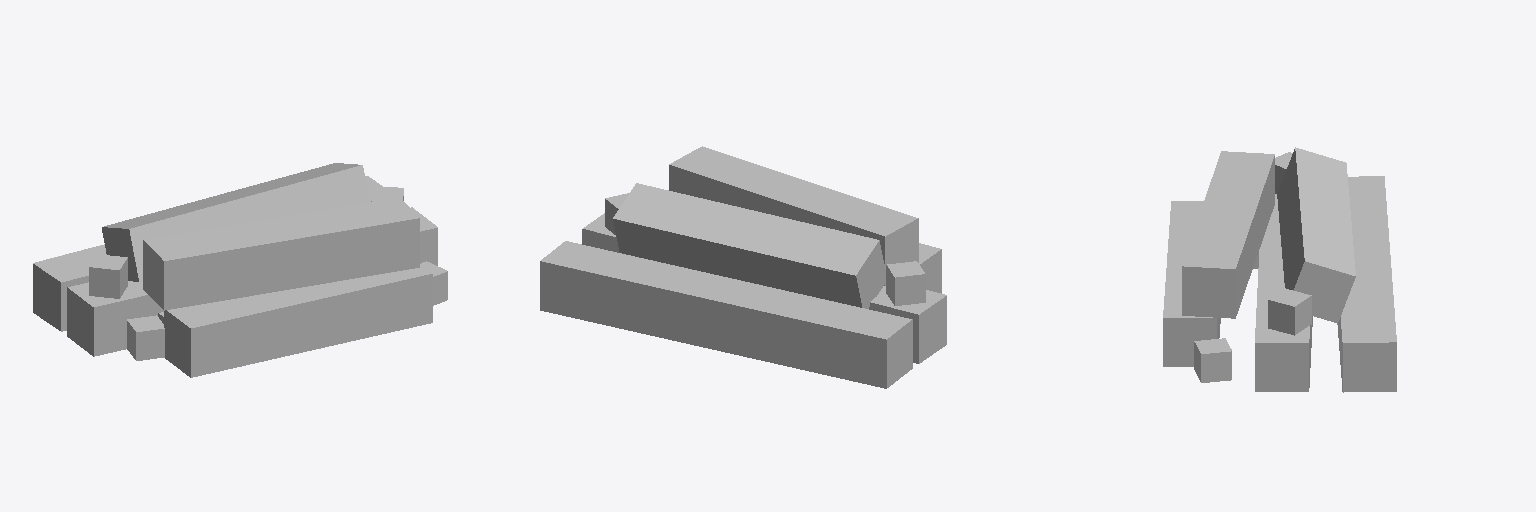
File: log_fire.obj
The picture shows the model from 3 angles: view 1: azimuth 30°, elevation 25°; view 2: azimuth 150°, elevation 25°; view 3: azimuth 270°, elevation 25°; orthographic projection.
Visible parts, largest first — view 1: CUBE_cube; view 2: CUBE_cube; view 3: CUBE_cube.
Part boxes in pixels (x1,y1,x2,y2): CUBE_cube: (33,163,447,377); CUBE_cube: (540,146,946,388); CUBE_cube: (1163,147,1396,392).
Bounding box in the file's own units: 1.81 × 0.5368 × 1.07.